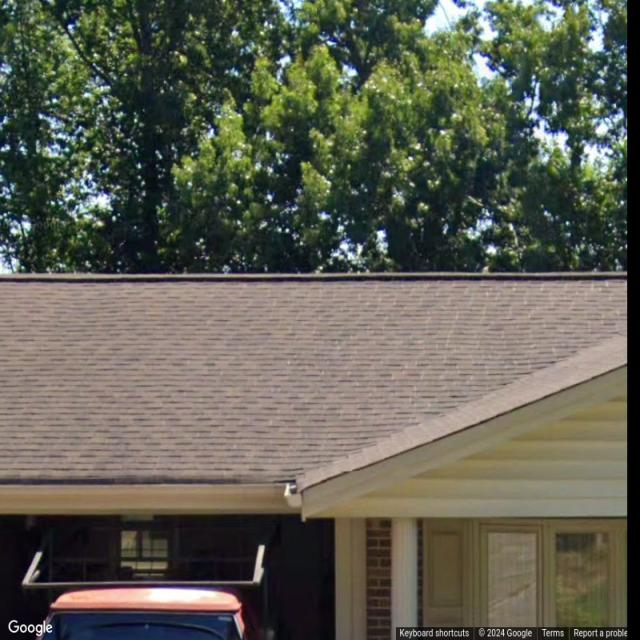House: (0, 269, 628, 640)
